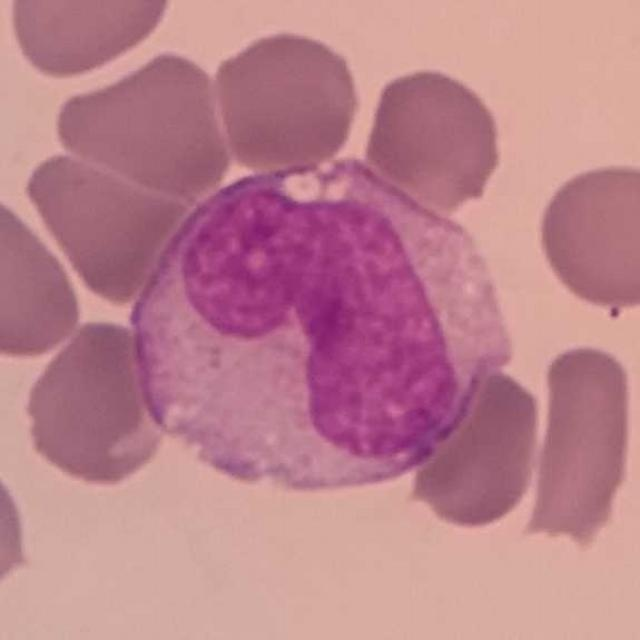Monocyte: (120, 167, 518, 503)
RBC: (51, 47, 237, 198), (20, 145, 194, 304), (19, 314, 165, 490), (403, 361, 548, 534), (523, 337, 639, 551), (210, 25, 364, 174), (359, 62, 506, 210), (532, 156, 640, 314), (0, 186, 87, 362), (4, 0, 176, 82), (0, 450, 35, 608)
